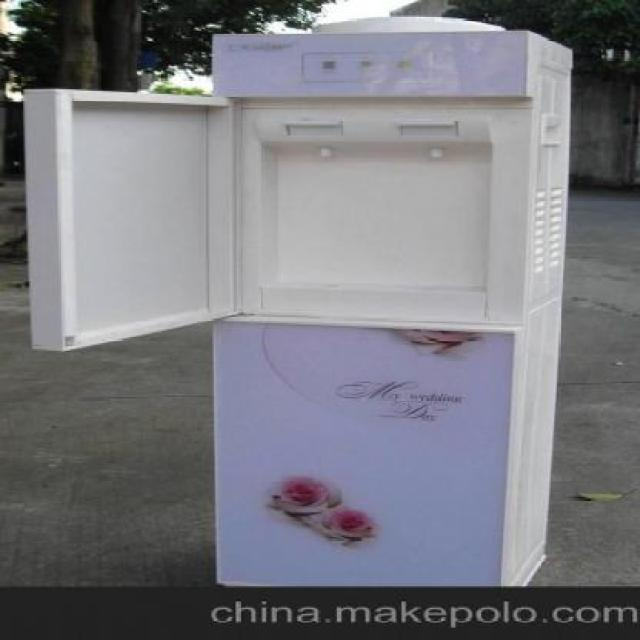cooler: (192, 15, 576, 588)
